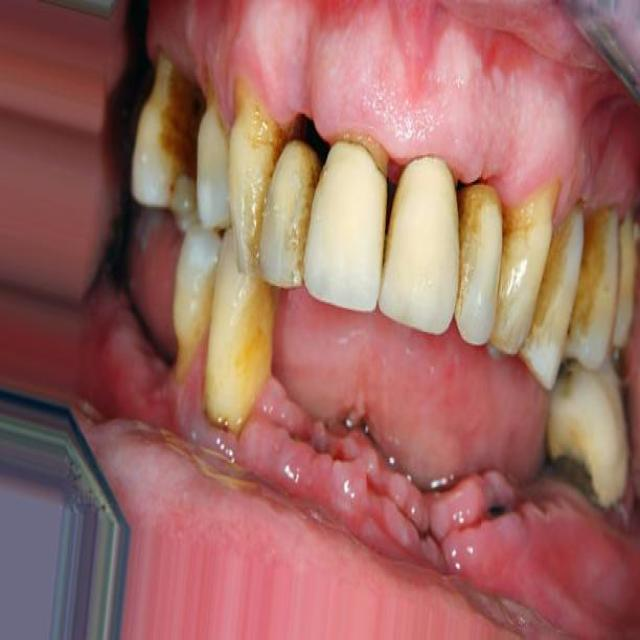caries: (550, 429, 608, 519)
